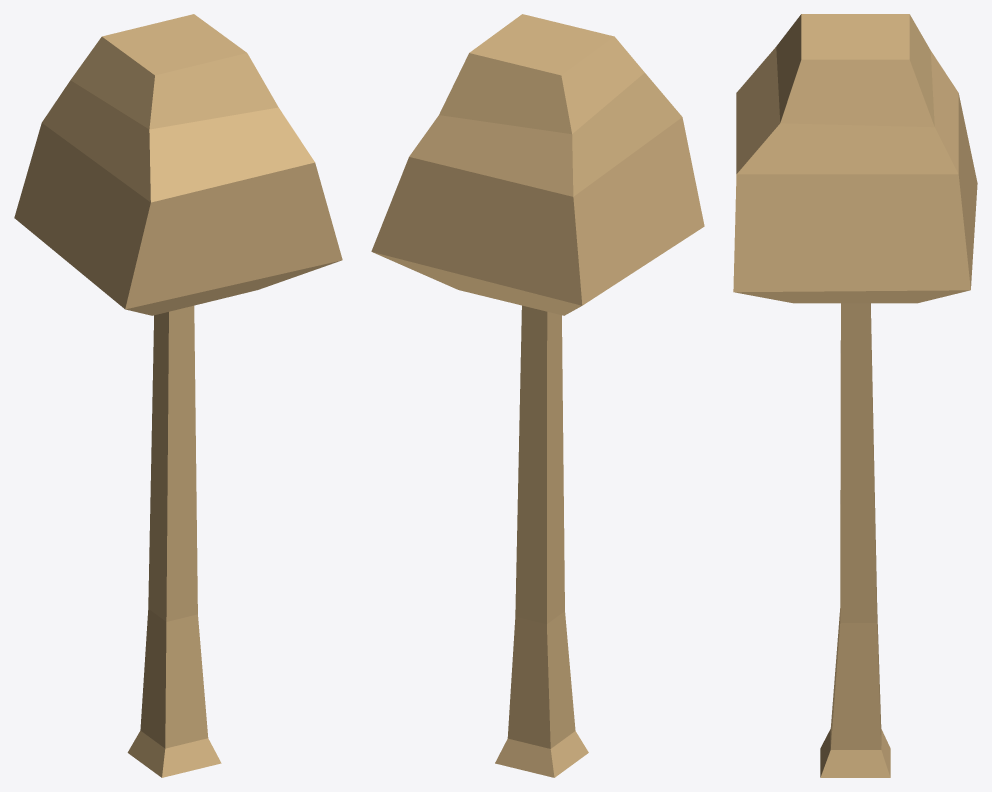
File: Mega_Asset_s_Pack_Cube_061.FBX
3 renders of one model, left to right at view 1: azimuth 30°, elevation 25°; view 2: azimuth 150°, elevation 25°; view 3: azimuth 270°, elevation 25°, orthographic.
Visible parts, largest first — view 1: Mega_Asset_s_Pack_Cube_061; view 2: Mega_Asset_s_Pack_Cube_061; view 3: Mega_Asset_s_Pack_Cube_061.
Part boxes in pixels (x1=…): Mega_Asset_s_Pack_Cube_061: x1=14, y1=14, x2=342, y2=777; Mega_Asset_s_Pack_Cube_061: x1=371, y1=14, x2=704, y2=777; Mega_Asset_s_Pack_Cube_061: x1=733, y1=14, x2=977, y2=777.
Size of what is drawn, in the model's own units: 477 by 451 by 1479.
